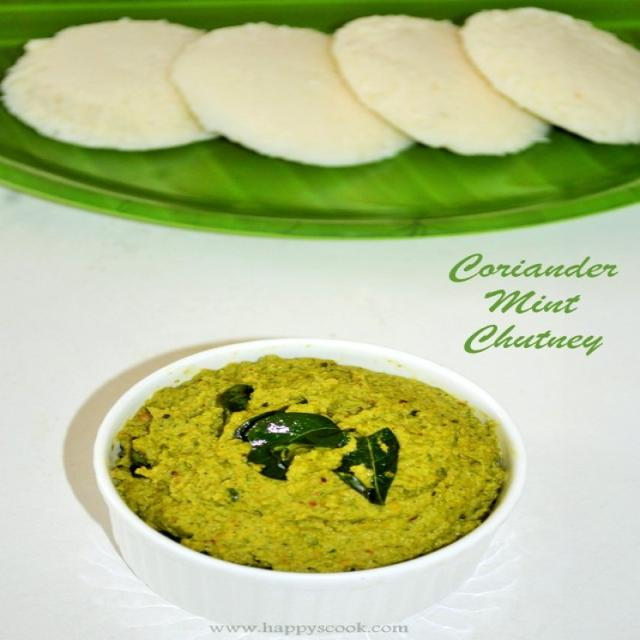idly: (176, 23, 400, 164), (333, 14, 542, 154), (2, 19, 209, 149), (463, 8, 636, 142)
puthina chutney: (94, 345, 511, 578)
